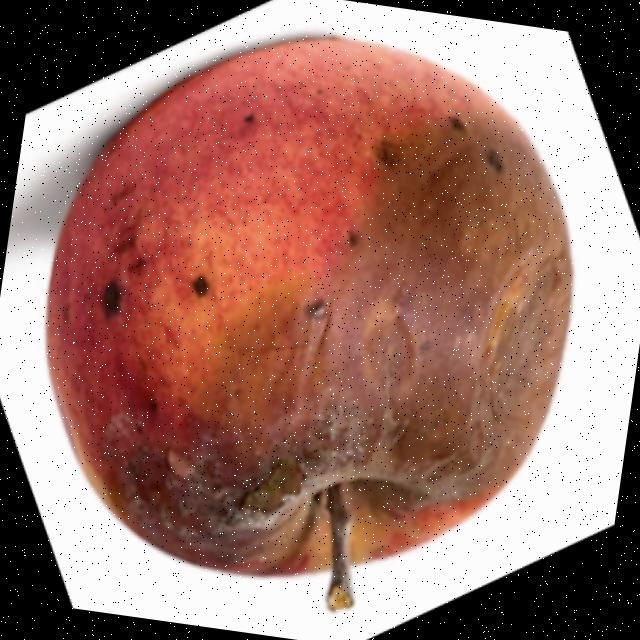Rotten: (8, 3, 611, 622)
